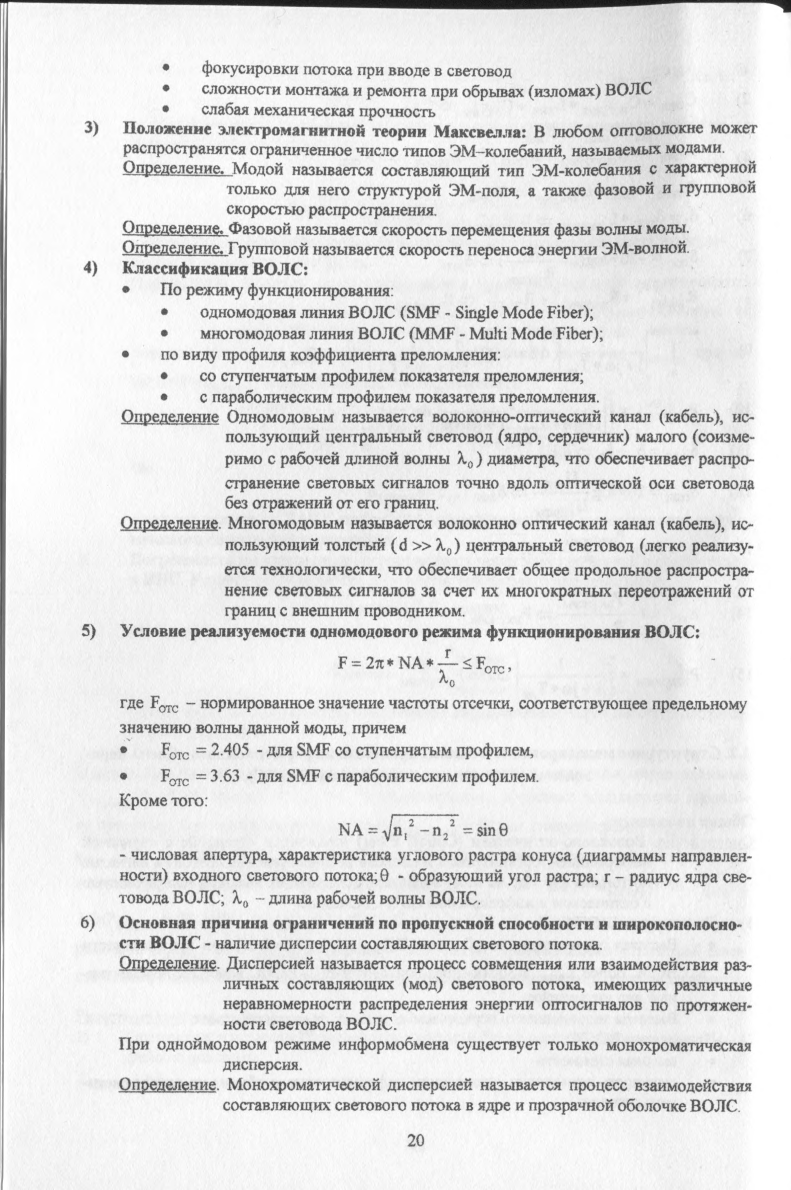F: (333, 655, 348, 671)
NA: (333, 818, 363, 840), (396, 652, 423, 673)
n.1: (391, 825, 407, 840)
n.2: (431, 823, 451, 843)
r: (441, 643, 454, 658)
θ: (497, 816, 512, 839)
λ.0: (435, 669, 458, 685)
